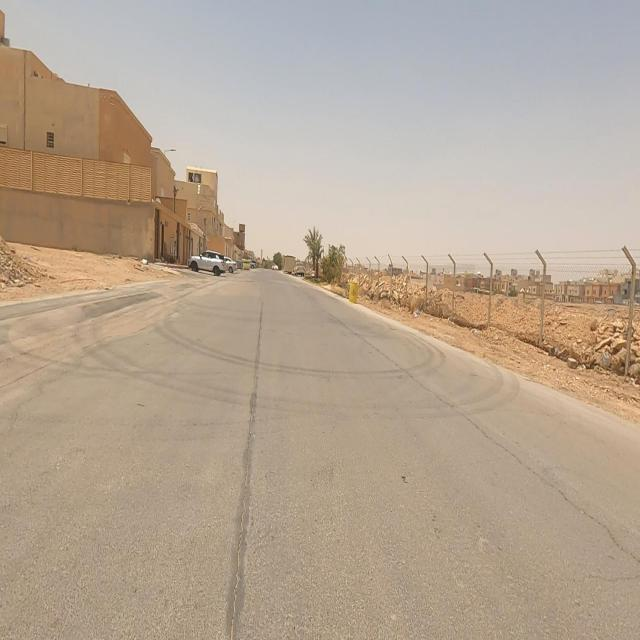debris: (116, 230, 182, 293), (402, 287, 433, 345)
